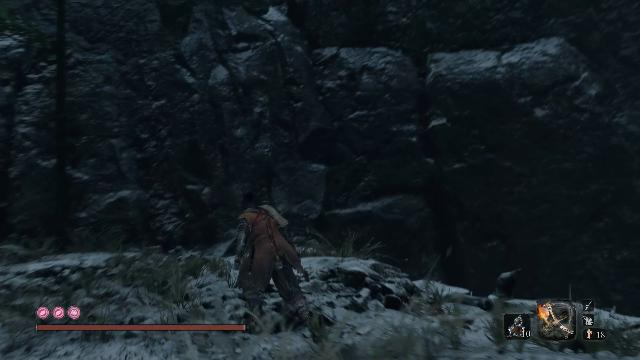sk: (230, 193, 318, 334)
